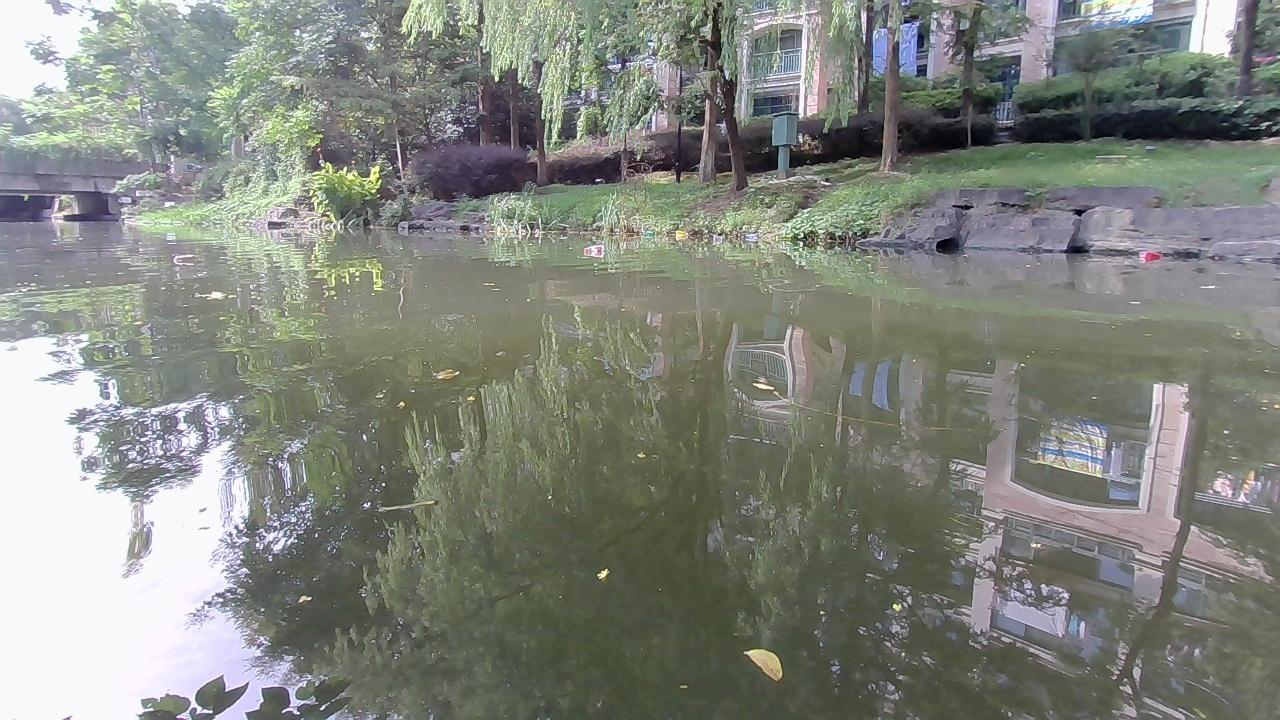bottle: (1135, 248, 1162, 264), (172, 253, 196, 266), (582, 242, 603, 254), (162, 232, 179, 241), (674, 229, 690, 236)
